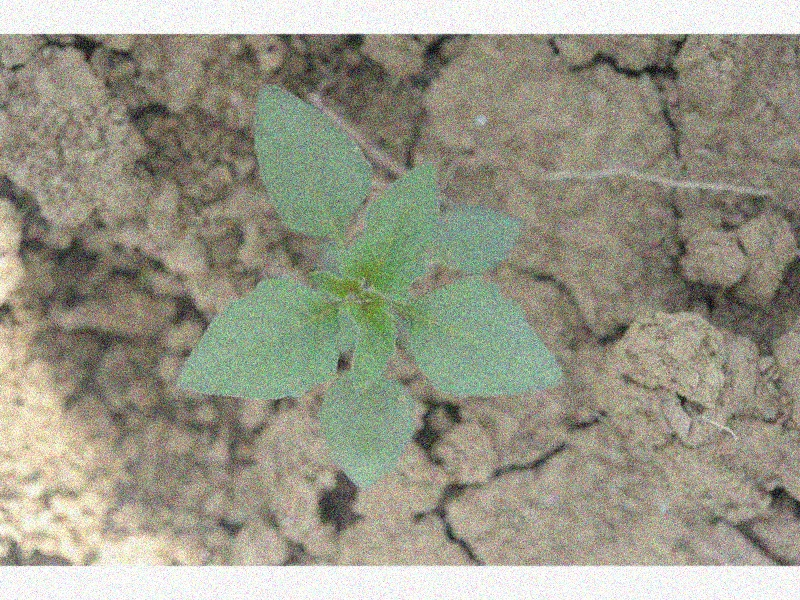nightshade: (177, 85, 558, 490)
